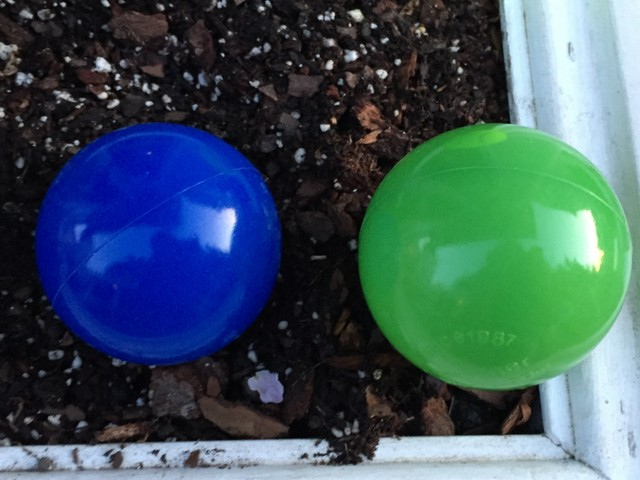Ball: (363, 124, 633, 389)
